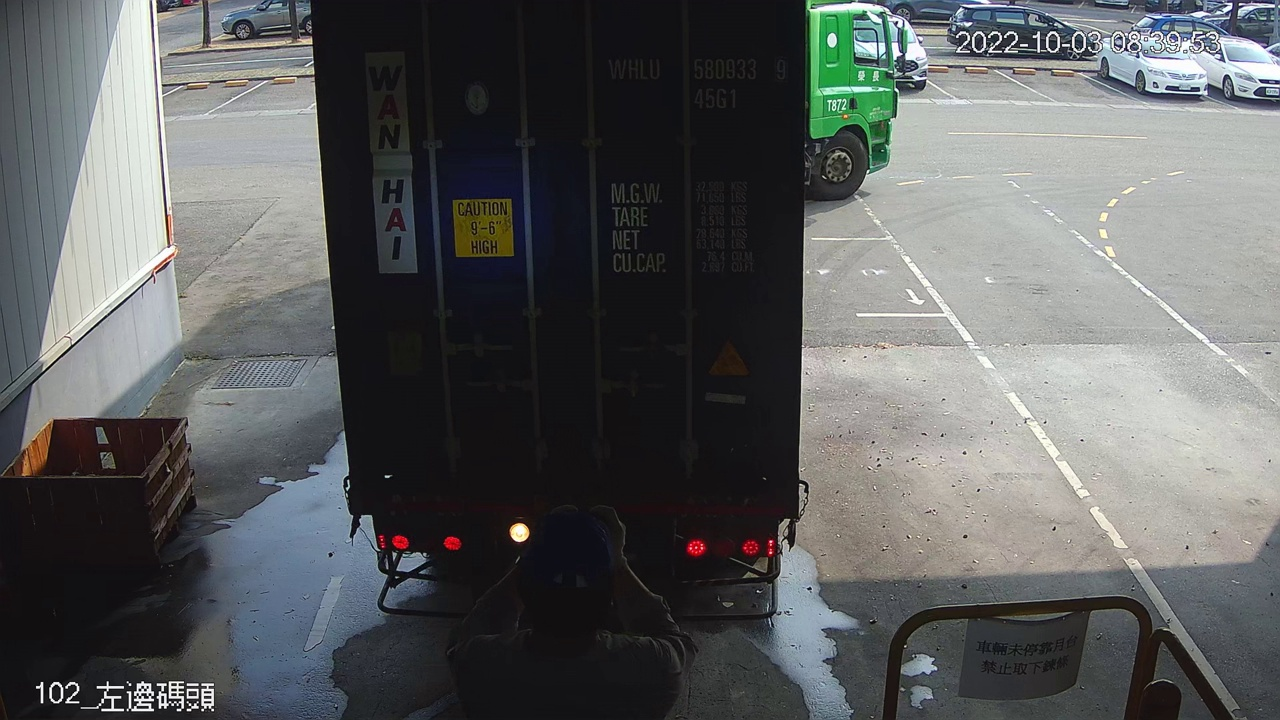container: (599, 51, 796, 115)
